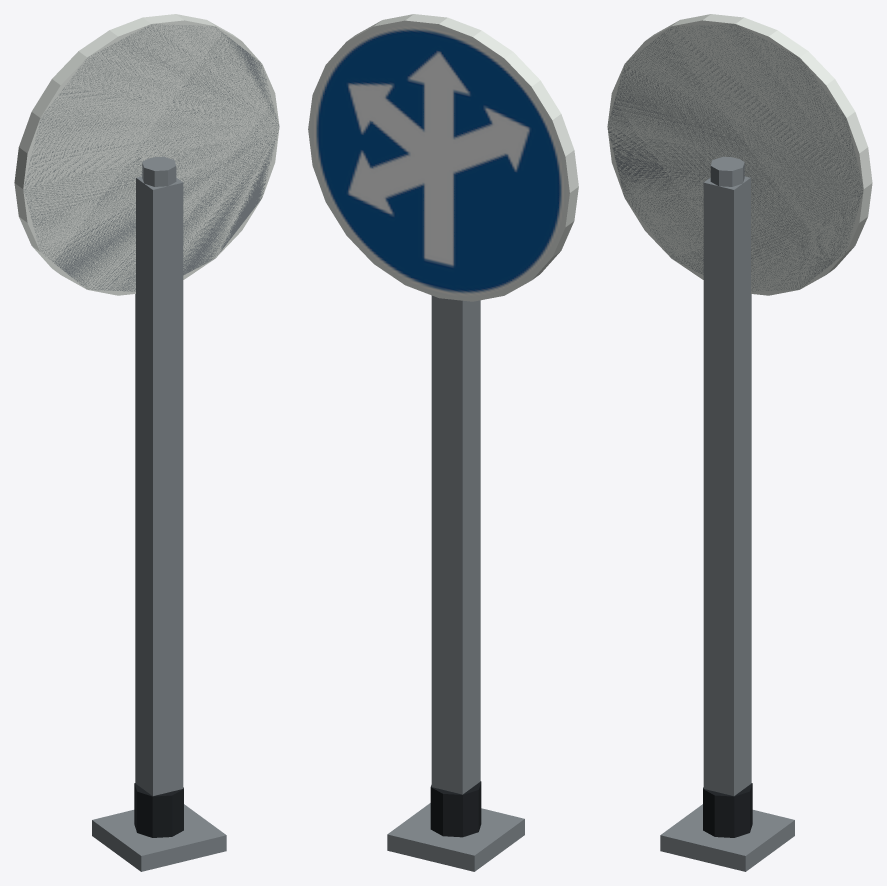
File: direction-sign-hl-l-a-r.glb
3 renders of one model, left to right at view 1: azimuth 30°, elevation 25°; view 2: azimuth 150°, elevation 25°; view 3: azimuth 330°, elevation 25°, orthographic. The views are drawn at different scales.
Parts seen in each view (by area): view 1: direction-sign-hl-l-a-r (×2); view 2: direction-sign-hl-l-a-r (×2); view 3: direction-sign-hl-l-a-r (×2).
Part boxes in pixels (x1=…): direction-sign-hl-l-a-r (×2): x1=14, y1=14, x2=279, y2=871; direction-sign-hl-l-a-r (×2): x1=308, y1=14, x2=578, y2=871; direction-sign-hl-l-a-r (×2): x1=607, y1=14, x2=872, y2=871.
Size of the model in its own units: 2.35 by 7.14 by 0.784.
4 materials, 1 textured.
